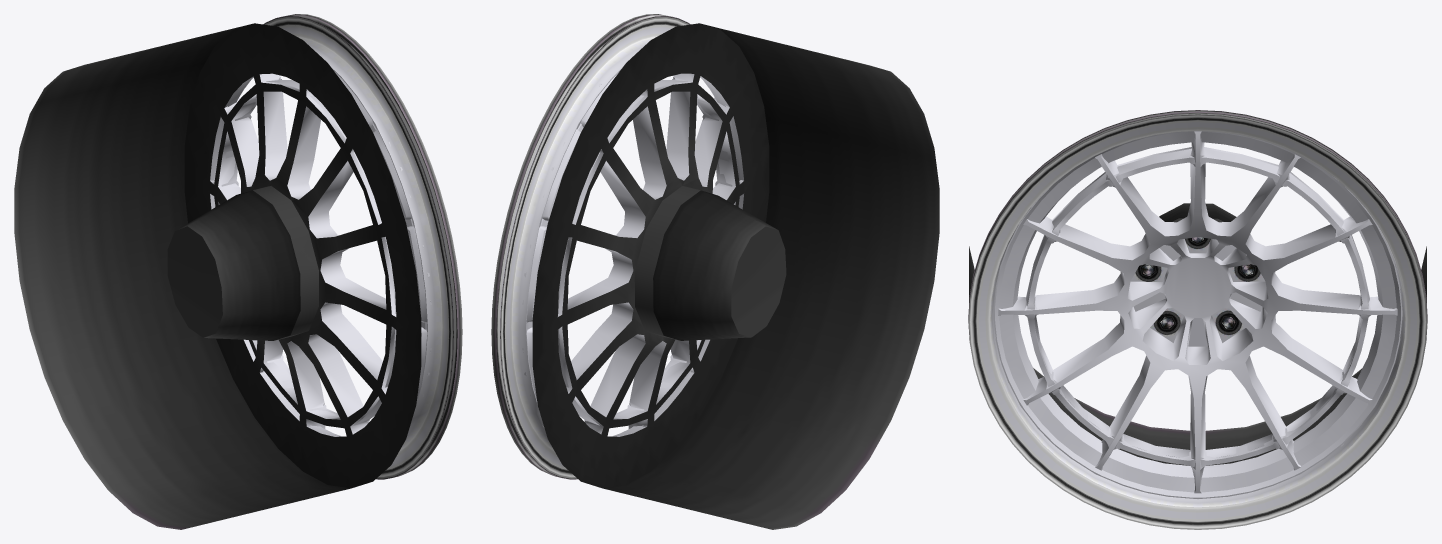
Rendered from wheel39.fbx.
The picture shows the model from 3 angles, left to right: view 1: azimuth 30°, elevation 25°; view 2: azimuth 150°, elevation 25°; view 3: azimuth 270°, elevation 25°; orthographic projection. The views are drawn at different scales.
Visible parts, largest first — view 1: enk_nt03_wheel_wheel_inner_rim_, enk_nt03_wheel_wheel_rim_, wheel_rim; view 2: enk_nt03_wheel_wheel_inner_rim_, enk_nt03_wheel_wheel_rim_, wheel_rim; view 3: wheel_rim, enk_nt03_wheel_wheel_rim_, enk_nt03_wheel_wheel_inner_rim_.
Boxes of the visible parts, bbox=[...] form: enk_nt03_wheel_wheel_inner_rim_: bbox=[14, 23, 421, 529]; enk_nt03_wheel_wheel_rim_: bbox=[210, 16, 453, 479]; wheel_rim: bbox=[213, 14, 462, 476]; enk_nt03_wheel_wheel_inner_rim_: bbox=[532, 23, 939, 529]; enk_nt03_wheel_wheel_rim_: bbox=[500, 16, 743, 479]; wheel_rim: bbox=[491, 14, 740, 476]; wheel_rim: bbox=[968, 111, 1427, 529]; enk_nt03_wheel_wheel_rim_: bbox=[968, 110, 1427, 497]; enk_nt03_wheel_wheel_inner_rim_: bbox=[969, 203, 1426, 465].
Size of the model in its own units: 0.2346 by 0.4578 by 0.4565.
1 material, 1 textured.
